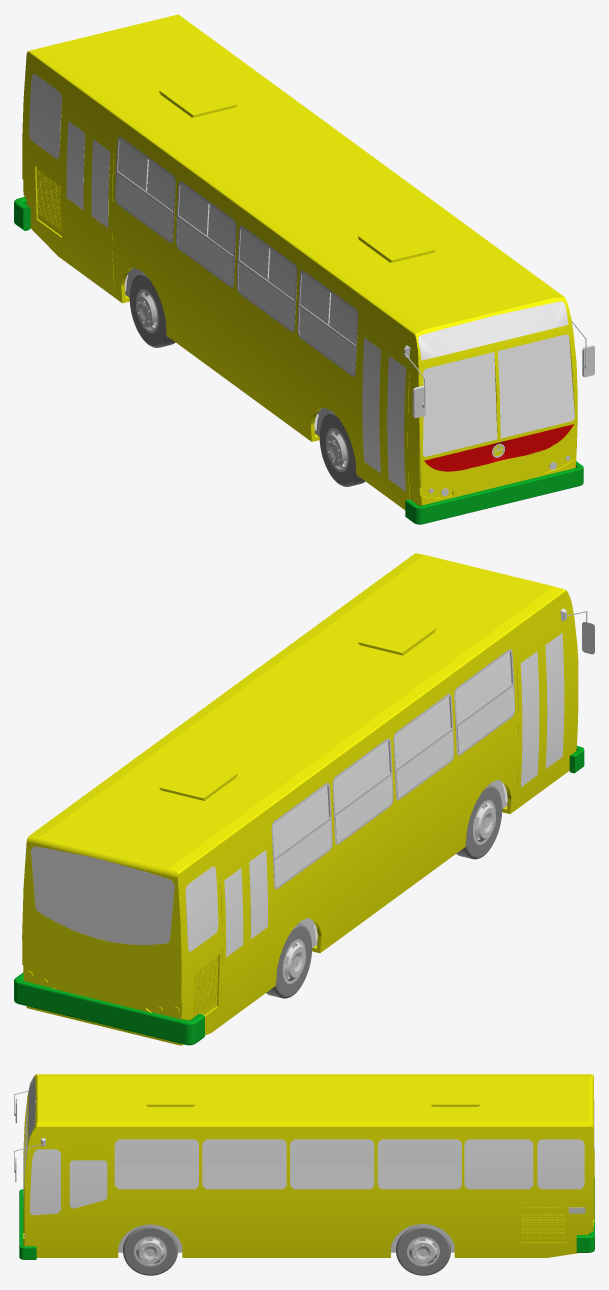
3 renders of one model, top to bottom at view 1: azimuth 30°, elevation 25°; view 2: azimuth 150°, elevation 25°; view 3: azimuth 270°, elevation 25°, orthographic. The views are drawn at different scales.
Visible parts, largest first — view 1: |10.5bus|Root|yellow, |10.5bus|Root|clear_glass, |10.5bus|Root|color, |10.5bus|Root|green, |10.5bus|Root|white_led, |10.5bus|Root|matte_rubber, |10.5bus|Root|red; view 2: |10.5bus|Root|yellow, |10.5bus|Root|clear_glass, |10.5bus|Root|color, |10.5bus|Root|green, |10.5bus|Root|matte_rubber; view 3: |10.5bus|Root|yellow, |10.5bus|Root|clear_glass, |10.5bus|Root|matte_rubber, |10.5bus|Root|color, |10.5bus|Root|green, |10.5bus|Root|white_led.
Part boxes in pixels (x1,y1,x2,y2): |10.5bus|Root|yellow: (22, 14, 577, 509); |10.5bus|Root|clear_glass: (29, 73, 574, 491); |10.5bus|Root|color: (115, 136, 594, 496); |10.5bus|Root|green: (14, 197, 583, 524); |10.5bus|Root|white_led: (418, 301, 568, 360); |10.5bus|Root|matte_rubber: (129, 273, 365, 486); |10.5bus|Root|red: (424, 424, 573, 471); |10.5bus|Root|yellow: (22, 553, 578, 1045); |10.5bus|Root|clear_glass: (31, 633, 564, 957); |10.5bus|Root|color: (180, 608, 594, 1018); |10.5bus|Root|green: (14, 746, 584, 1045); |10.5bus|Root|matte_rubber: (266, 784, 502, 998); |10.5bus|Root|yellow: (23, 1074, 594, 1257); |10.5bus|Root|clear_glass: (23, 1099, 594, 1215); |10.5bus|Root|matte_rubber: (123, 1225, 450, 1275); |10.5bus|Root|color: (14, 1090, 585, 1266); |10.5bus|Root|green: (19, 1177, 594, 1259); |10.5bus|Root|white_led: (28, 1077, 35, 1141).
Bounding box in the file's own units: 2.77 × 3.12 × 10.68.
